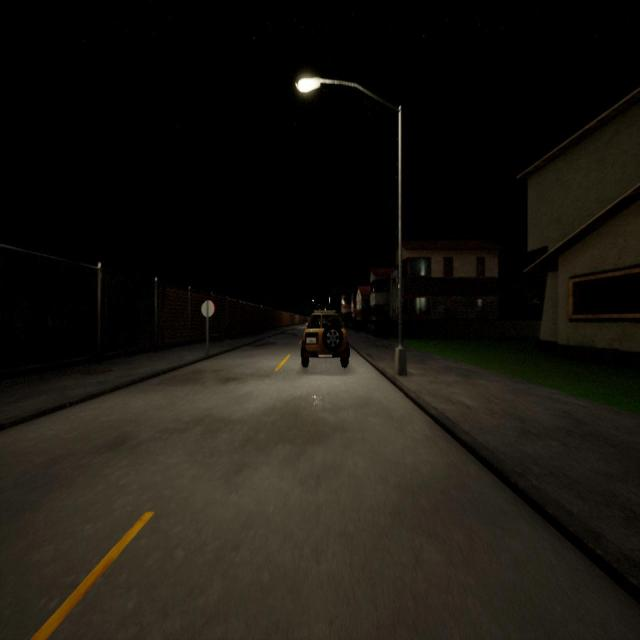Traffic_Signs: (201, 300, 215, 318)
Vehicle: (301, 310, 349, 368)
